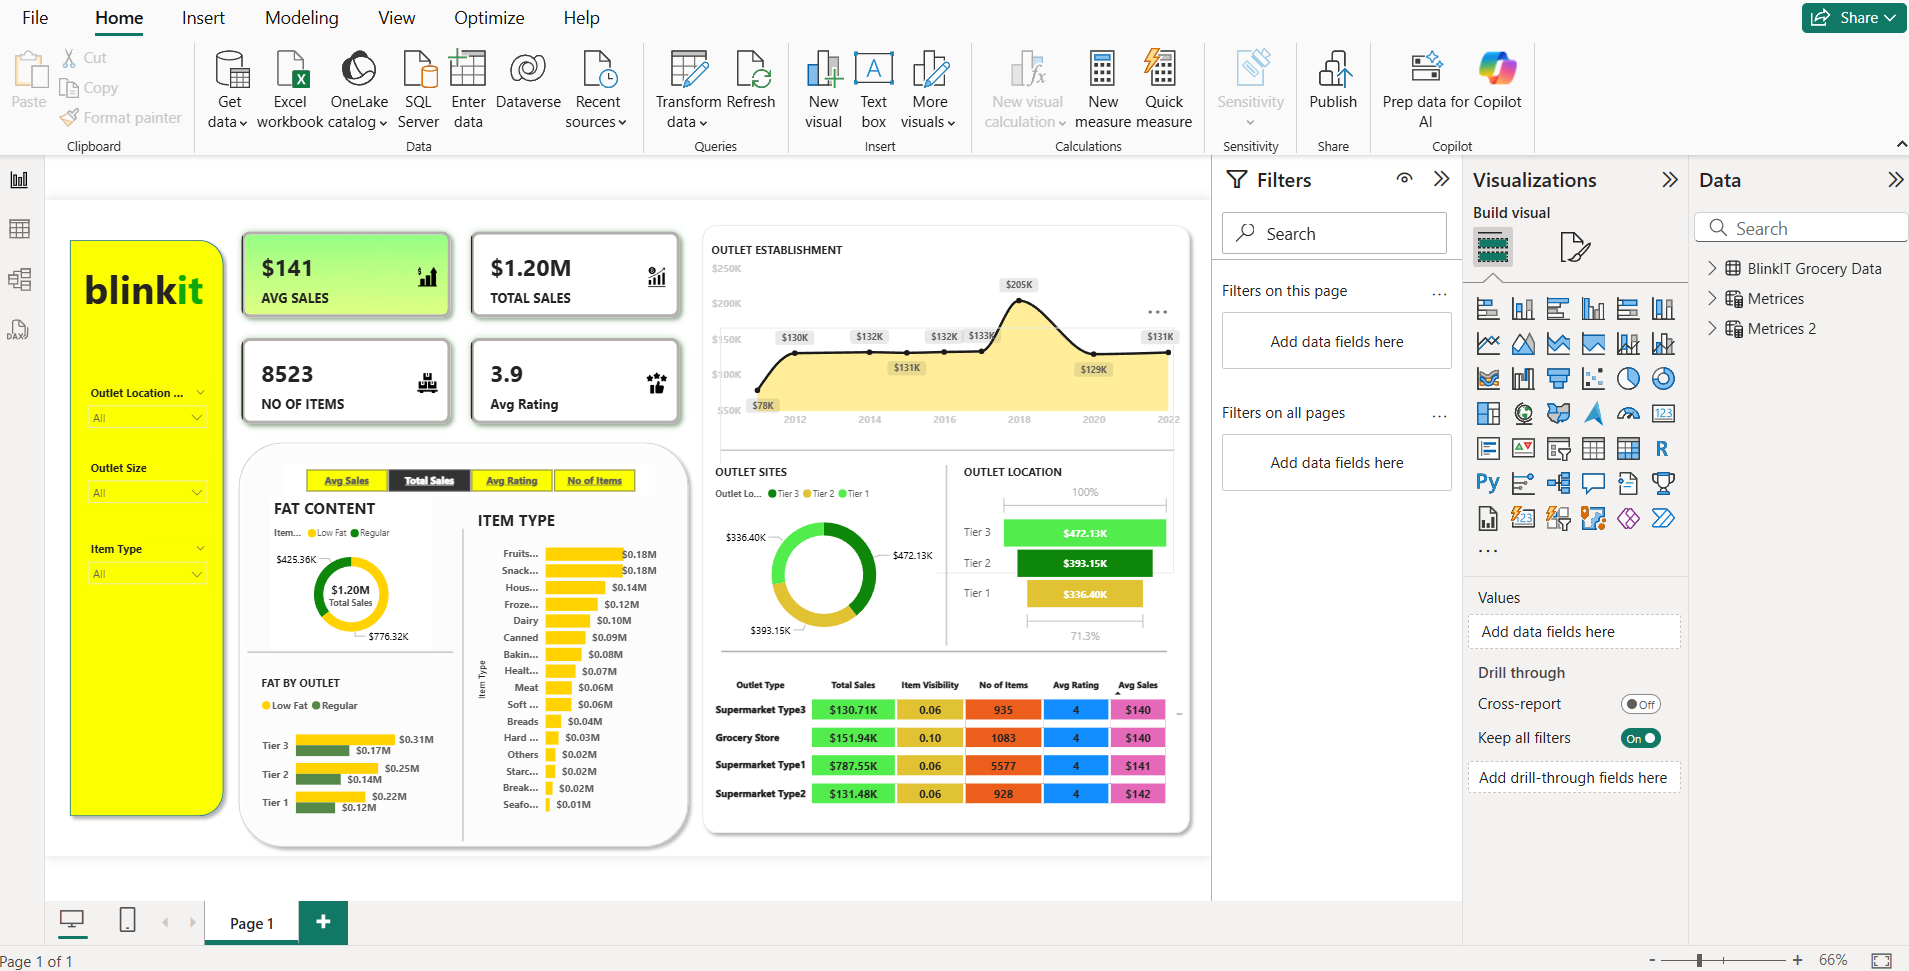

The page's visual inventory and layout, read from the dashboard file:
{"tool":"powerbi","page":{"name":"Page 1","canvas":[1420,800],"ordinal":0},"visuals":[{"type":"shape","box":[21.4,38.9,205.1,719.8],"z":0},{"type":"textbox","box":[273.5,686.3,266.8,72.4],"z":1000},{"type":"textbox","box":[273,39,267,647],"z":2000},{"type":"textbox","box":[540.2,38.9,266.8,647.5],"z":3000},{"type":"textbox","box":[42.9,69.7,164.9,92.5],"z":4000},{"type":"textbox","box":[823.1,449.1,250.7,237.3],"z":5000},{"type":"cardVisual","fields":{"Data":["BlinkIT Grocery Data.Avg Sales","BlinkIT Grocery Data.Total Sales","BlinkIT Grocery Data.No of Items","BlinkIT Grocery Data.Avg Rating"]},"box":[222.5,21.4,569.7,269.4],"z":6000},{"type":"shape","box":[226.5,286.9,565.7,510.7],"z":7000},{"type":"donutChart","title":"FAT CONTENT","fields":{"Y":["BlinkIT Grocery Data.Avg Sales"],"Category":["BlinkIT Grocery Data.Item Fat Content"]},"box":[273.5,361.9,198.4,183.6],"z":8000},{"type":"cardVisual","fields":{"Data":["BlinkIT Grocery Data.Total Sales"]},"box":[313.7,449.1,118,55],"z":9000},{"type":"slicer","fields":{"Values":["Metrices.Metrices"]},"box":[292.2,321.7,450.4,40.2],"z":10000},{"type":"clusteredBarChart","title":"FAT BY OUTLET","fields":{"Y":["BlinkIT Grocery Data.Avg Sales"],"Category":["BlinkIT Grocery Data.Outlet Location Type"],"Series":["BlinkIT Grocery Data.Item Fat Content"]},"box":[258.7,579.1,219.8,189],"z":11000},{"type":"shape","box":[246.7,345.8,250.7,410.2],"z":12000},{"type":"shape","box":[383.4,400.8,250.7,380.7],"z":13000},{"type":"barChart","title":"ITEM TYPE","fields":{"Y":["BlinkIT Grocery Data.Avg Sales"],"Category":["BlinkIT Grocery Data.Item Type"]},"box":[521.5,378,227.9,380.7],"z":14000},{"type":"shape","box":[792.2,21.4,611.3,758.7],"z":15000},{"type":"lineChart","title":"OUTLET ESTABLISHMENT","fields":{"Category":["BlinkIT Grocery Data.Outlet Establishment Year"],"Y":["BlinkIT Grocery Data.Total Sales"]},"box":[807,52.3,580.4,234.6],"z":16000},{"type":"shape","box":[821.7,155.5,553.6,298.9],"z":17000},{"type":"donutChart","title":"OUTLET SITES","fields":{"Y":["BlinkIT Grocery Data.Total Sales"],"Category":["BlinkIT Grocery Data.Outlet Location Type"]},"box":[811,321.7,274.8,225.2],"z":18000},{"type":"shape","box":[843.2,477.2,541.6,298.9],"z":19000},{"type":"shape","box":[949.1,323.1,298.9,219.8],"z":20000},{"type":"funnel","title":"OUTLET LOCATION","fields":{"Y":["BlinkIT Grocery Data.Total Sales"],"Category":["BlinkIT Grocery Data.Outlet Location Type"]},"box":[1113.9,321.7,261.4,225.2],"z":21000},{"type":"pivotTable","fields":{"Rows":["BlinkIT Grocery Data.Outlet Type"],"Values":["BlinkIT Grocery Data.Total Sales","Avg(BlinkIT Grocery Data.Item Visibility)","BlinkIT Grocery Data.No of Items","BlinkIT Grocery Data.Avg Rating","BlinkIT Grocery Data.Avg Sales"]},"box":[807,575.1,571,183.6],"z":22000},{"type":"shape","box":[823.1,400.8,542.9,298.9],"z":23000},{"type":"slicer","fields":{"Values":["BlinkIT Grocery Data.Outlet Location Type"]},"box":[42.9,221.2,164.9,65.7],"z":24000},{"type":"slicer","fields":{"Values":["BlinkIT Grocery Data.Item Type"]},"box":[42.9,411.5,164.9,65.7],"z":25000},{"type":"slicer","fields":{"Values":["BlinkIT Grocery Data.Outlet Size"]},"box":[42.9,312.3,164.9,65.7],"z":26000}]}

Visuals, with their boxes on the page's 1420x800 design canvas (x1, y1, x2, y2). These are canvas units, not pixel positions in the 1909x971 screenshot, which may show the page scaled, cropped or inside an application window:
shape: {"x1": 21, "y1": 39, "x2": 226, "y2": 759}
textbox: {"x1": 274, "y1": 686, "x2": 540, "y2": 759}
textbox: {"x1": 273, "y1": 39, "x2": 540, "y2": 686}
textbox: {"x1": 540, "y1": 39, "x2": 807, "y2": 686}
textbox: {"x1": 43, "y1": 70, "x2": 208, "y2": 162}
textbox: {"x1": 823, "y1": 449, "x2": 1074, "y2": 686}
cardVisual - BlinkIT Grocery Data.Avg Sales x BlinkIT Grocery Data.Total Sales: {"x1": 222, "y1": 21, "x2": 792, "y2": 291}
shape: {"x1": 226, "y1": 287, "x2": 792, "y2": 798}
"FAT CONTENT" donutChart: {"x1": 274, "y1": 362, "x2": 472, "y2": 546}
cardVisual - BlinkIT Grocery Data.Total Sales: {"x1": 314, "y1": 449, "x2": 432, "y2": 504}
slicer - Metrices.Metrices: {"x1": 292, "y1": 322, "x2": 743, "y2": 362}
"FAT BY OUTLET" clusteredBarChart: {"x1": 259, "y1": 579, "x2": 478, "y2": 768}
shape: {"x1": 247, "y1": 346, "x2": 497, "y2": 756}
shape: {"x1": 383, "y1": 401, "x2": 634, "y2": 782}
"ITEM TYPE" barChart: {"x1": 522, "y1": 378, "x2": 749, "y2": 759}
shape: {"x1": 792, "y1": 21, "x2": 1404, "y2": 780}
"OUTLET ESTABLISHMENT" lineChart: {"x1": 807, "y1": 52, "x2": 1387, "y2": 287}
shape: {"x1": 822, "y1": 156, "x2": 1375, "y2": 454}
"OUTLET SITES" donutChart: {"x1": 811, "y1": 322, "x2": 1086, "y2": 547}
shape: {"x1": 843, "y1": 477, "x2": 1385, "y2": 776}
shape: {"x1": 949, "y1": 323, "x2": 1248, "y2": 543}
"OUTLET LOCATION" funnel: {"x1": 1114, "y1": 322, "x2": 1375, "y2": 547}
pivotTable - BlinkIT Grocery Data.Outlet Type x BlinkIT Grocery Data.Total Sales: {"x1": 807, "y1": 575, "x2": 1378, "y2": 759}
shape: {"x1": 823, "y1": 401, "x2": 1366, "y2": 700}
slicer - BlinkIT Grocery Data.Outlet Location Type: {"x1": 43, "y1": 221, "x2": 208, "y2": 287}
slicer - BlinkIT Grocery Data.Item Type: {"x1": 43, "y1": 412, "x2": 208, "y2": 477}
slicer - BlinkIT Grocery Data.Outlet Size: {"x1": 43, "y1": 312, "x2": 208, "y2": 378}
